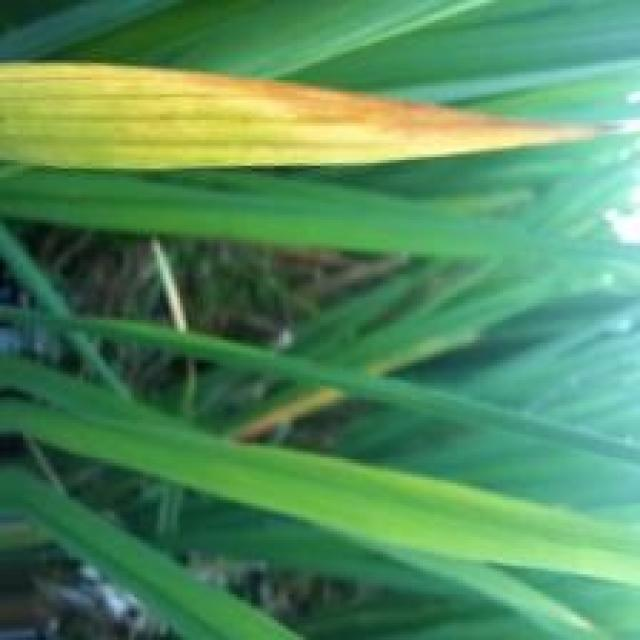Bacterial_Leaf_Blight: (175, 75, 534, 145)
